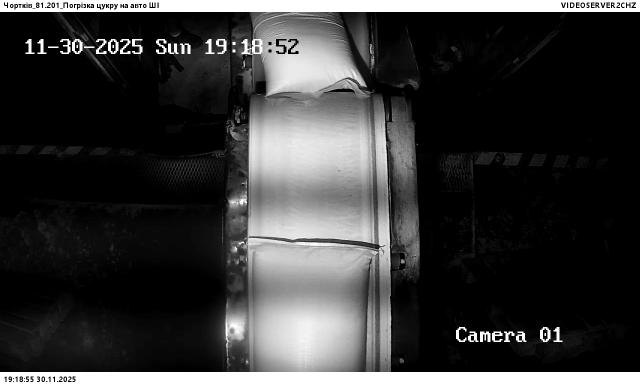bag: (248, 236, 379, 372), (252, 13, 372, 102)
